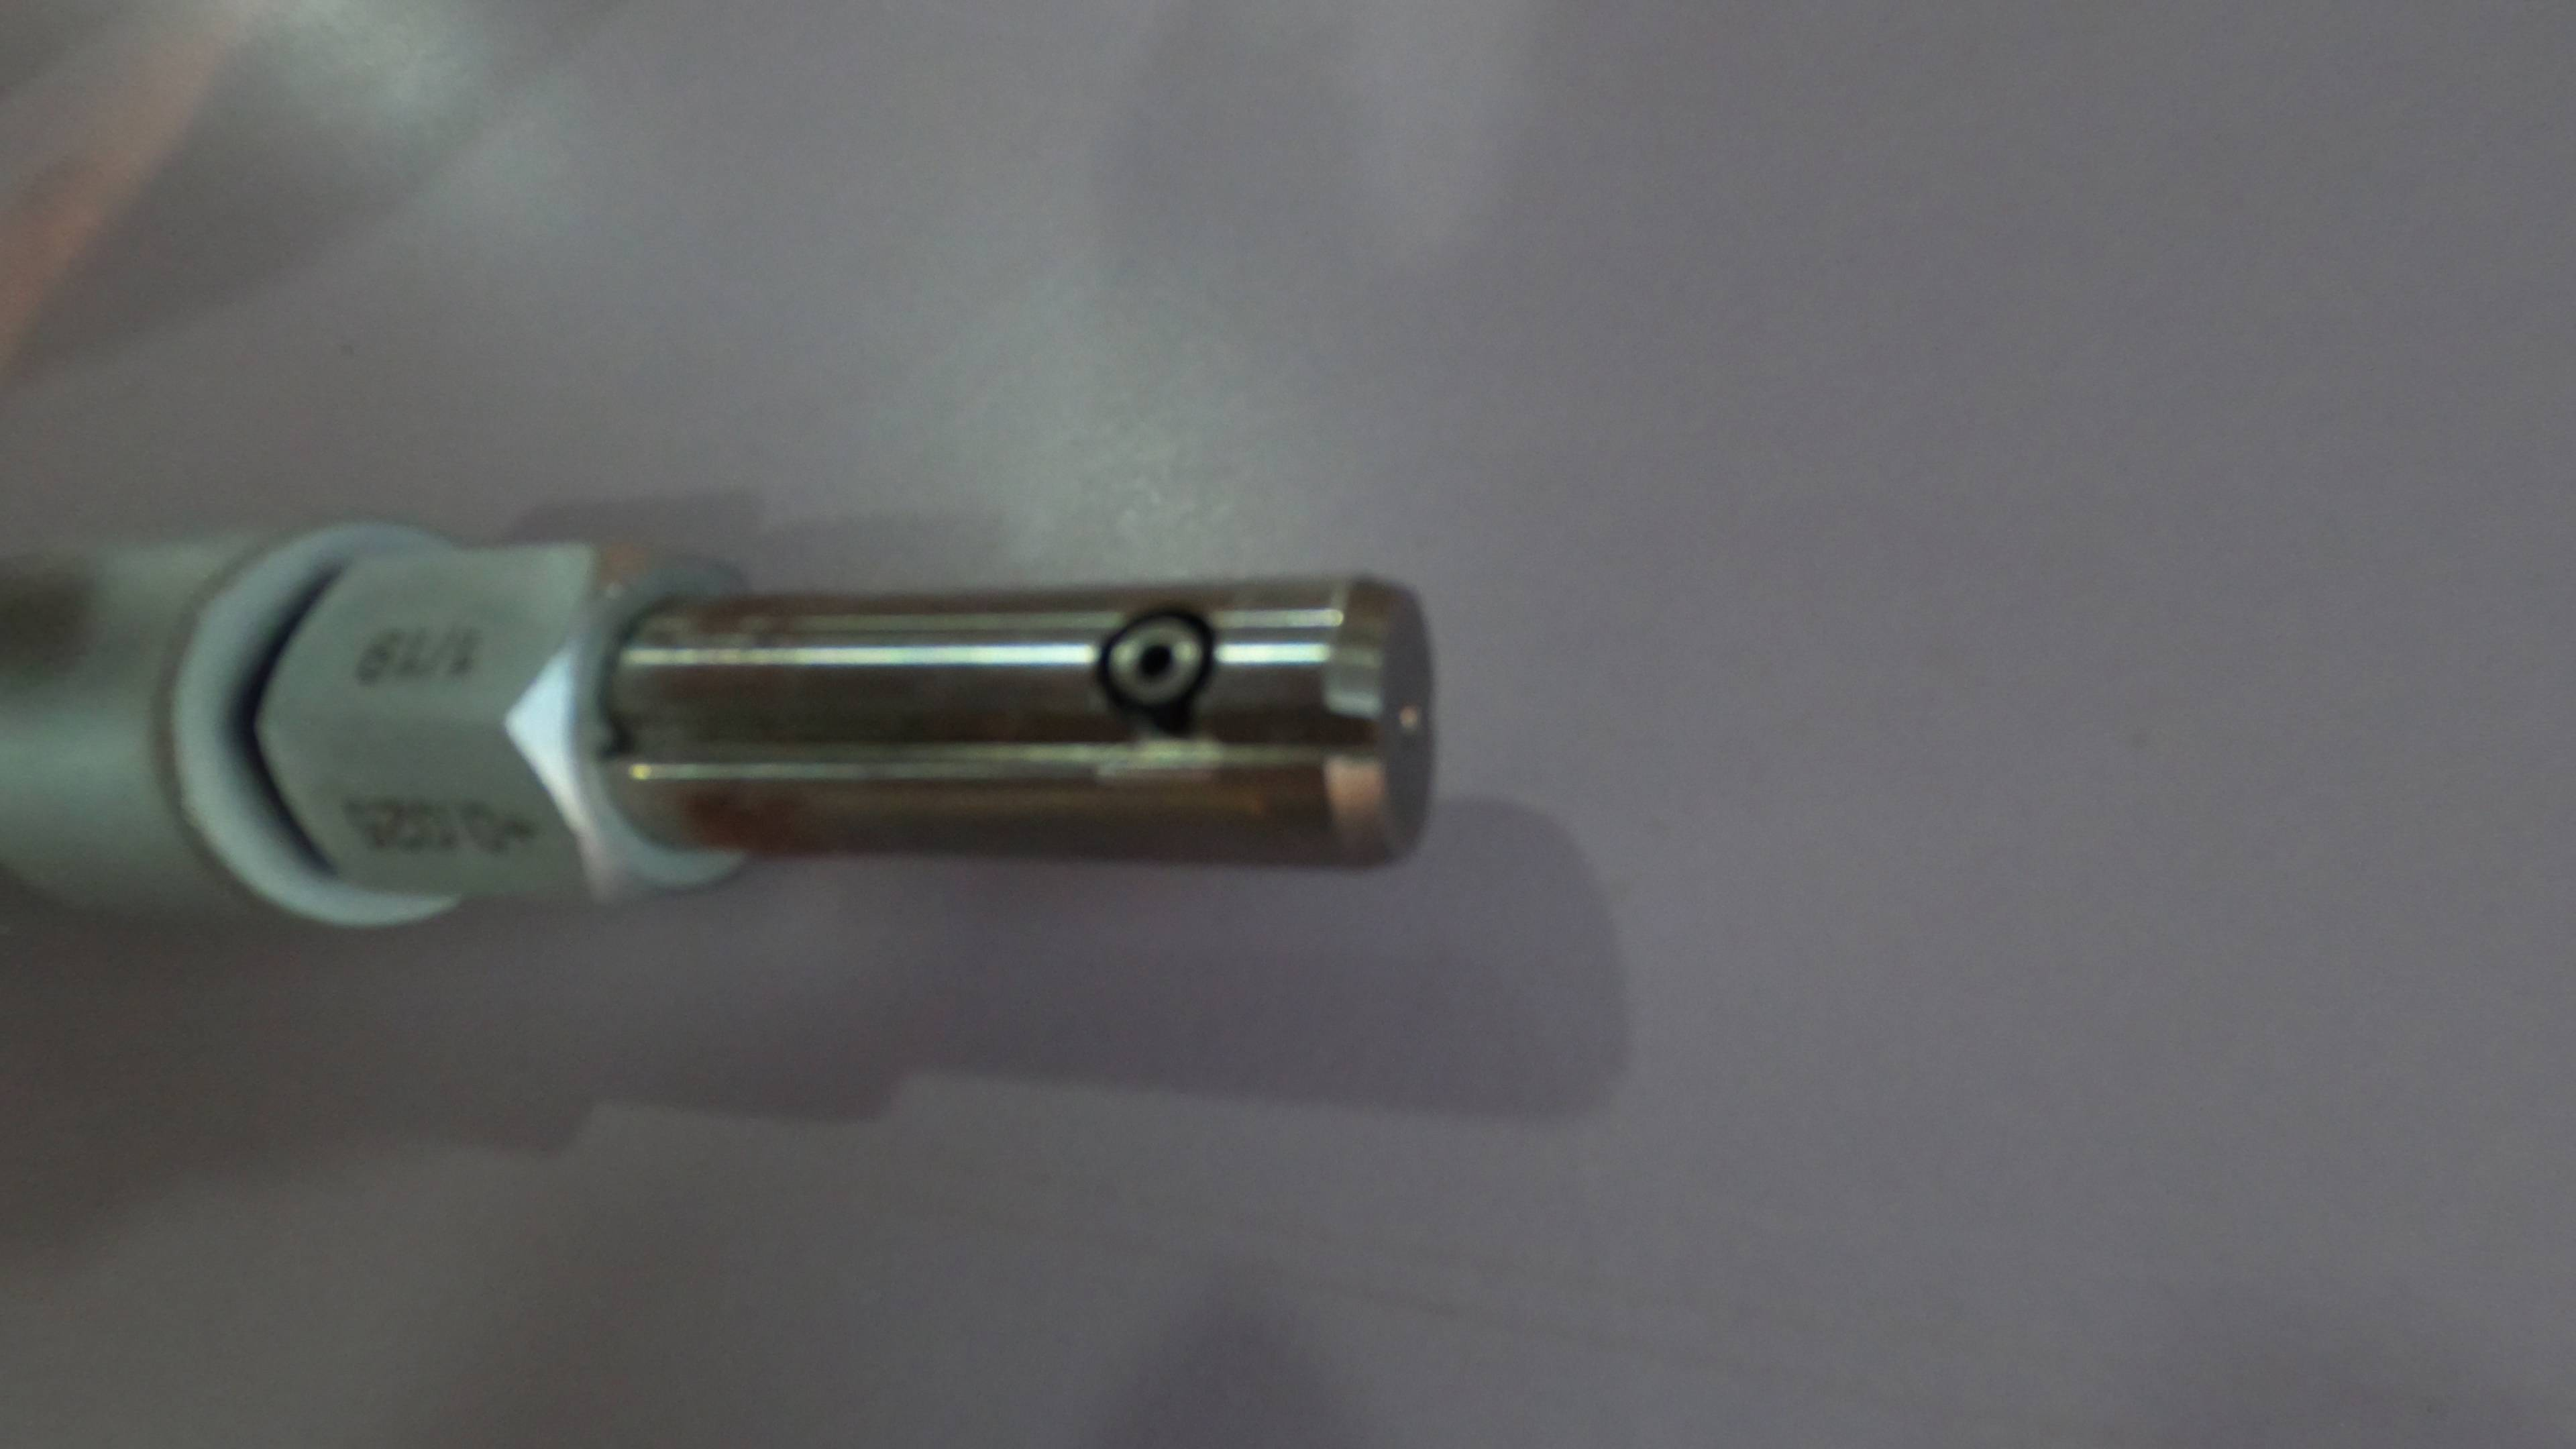air_gauge: (4, 501, 1442, 943)
